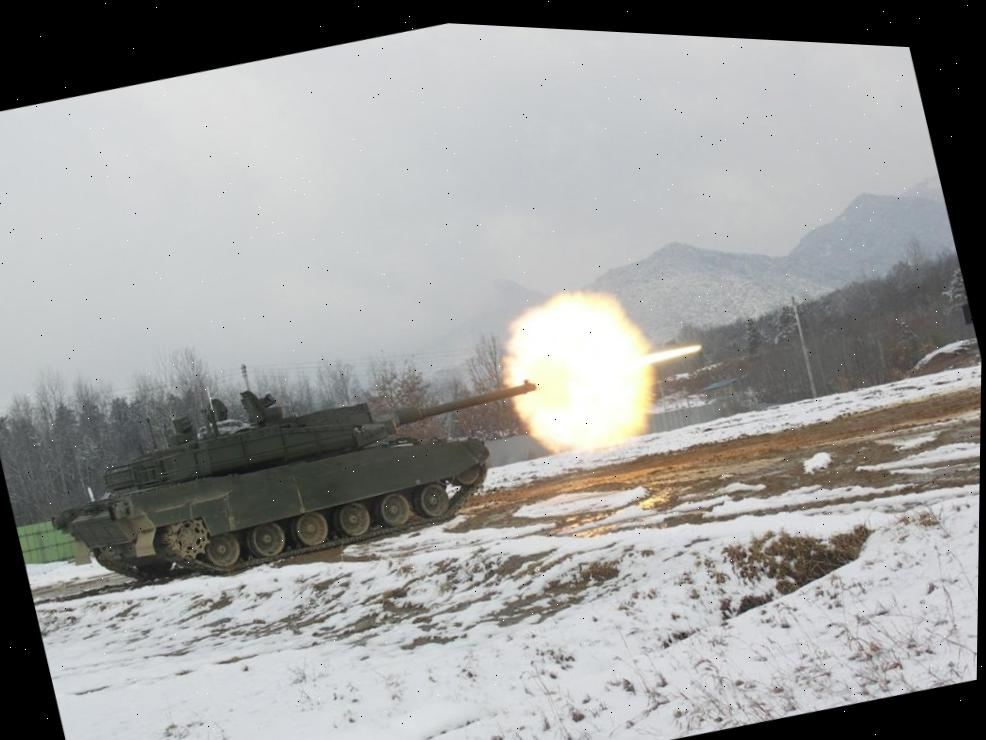tank: (43, 312, 558, 627)
